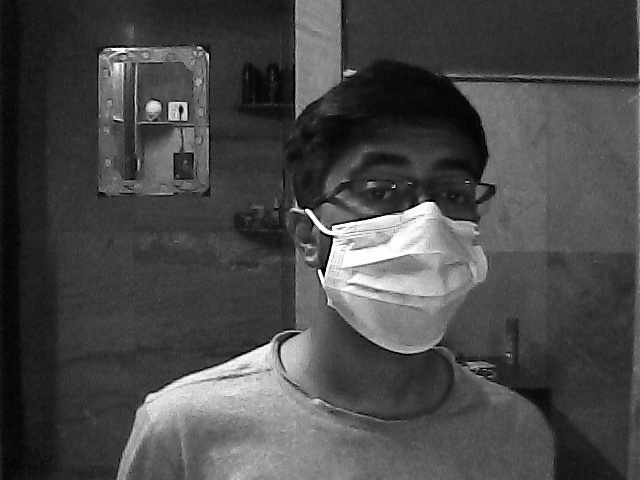mask: (312, 143, 494, 372)
